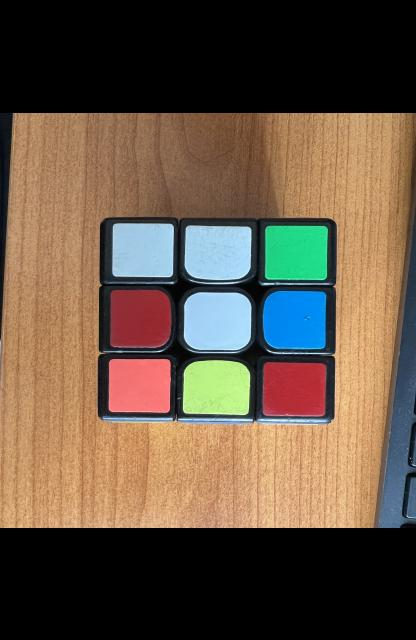Blue: (263, 290, 327, 348)
Green: (266, 225, 328, 279)
Orange: (108, 358, 170, 412)
Red: (110, 289, 172, 347), (263, 361, 327, 415)
White: (184, 291, 252, 349), (184, 225, 252, 279), (112, 222, 174, 277)
Yellow: (183, 359, 250, 414)
